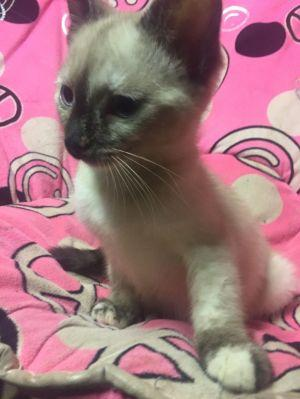siamese: (33, 1, 234, 171)
